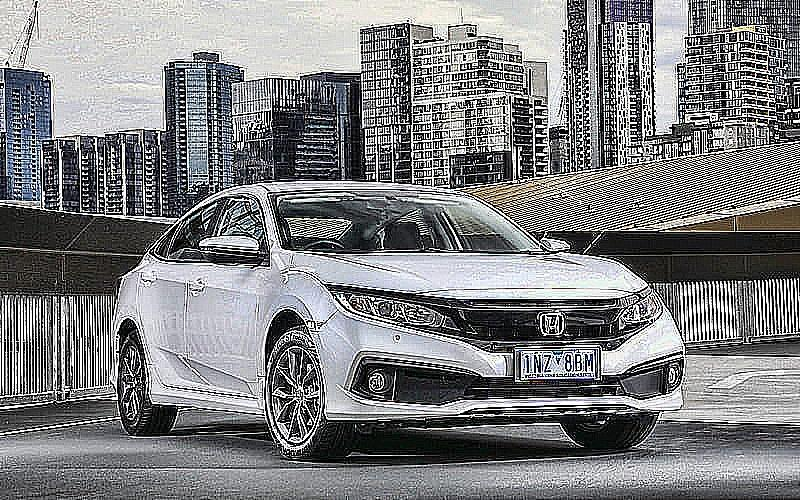Car hood: (274, 247, 655, 302)
Driver-s door - -F-R-: (190, 182, 273, 397)
Fender - -F-R-: (259, 244, 342, 416)
Fender - -R-R-: (116, 291, 159, 410)
Front bumper: (315, 322, 697, 427)
Headlight - -L-: (603, 280, 672, 341)
Headlight - -R-: (320, 277, 464, 340)
Passenger-s door - -R-R-: (130, 187, 212, 396)
Rear bumper: (107, 320, 128, 396)
Rear light - -R-: (97, 267, 128, 302)
Side bumper - -R-: (142, 379, 279, 423)
Side mirror - -L-: (526, 226, 575, 258)
Side mirror - -R-: (194, 227, 277, 271)
